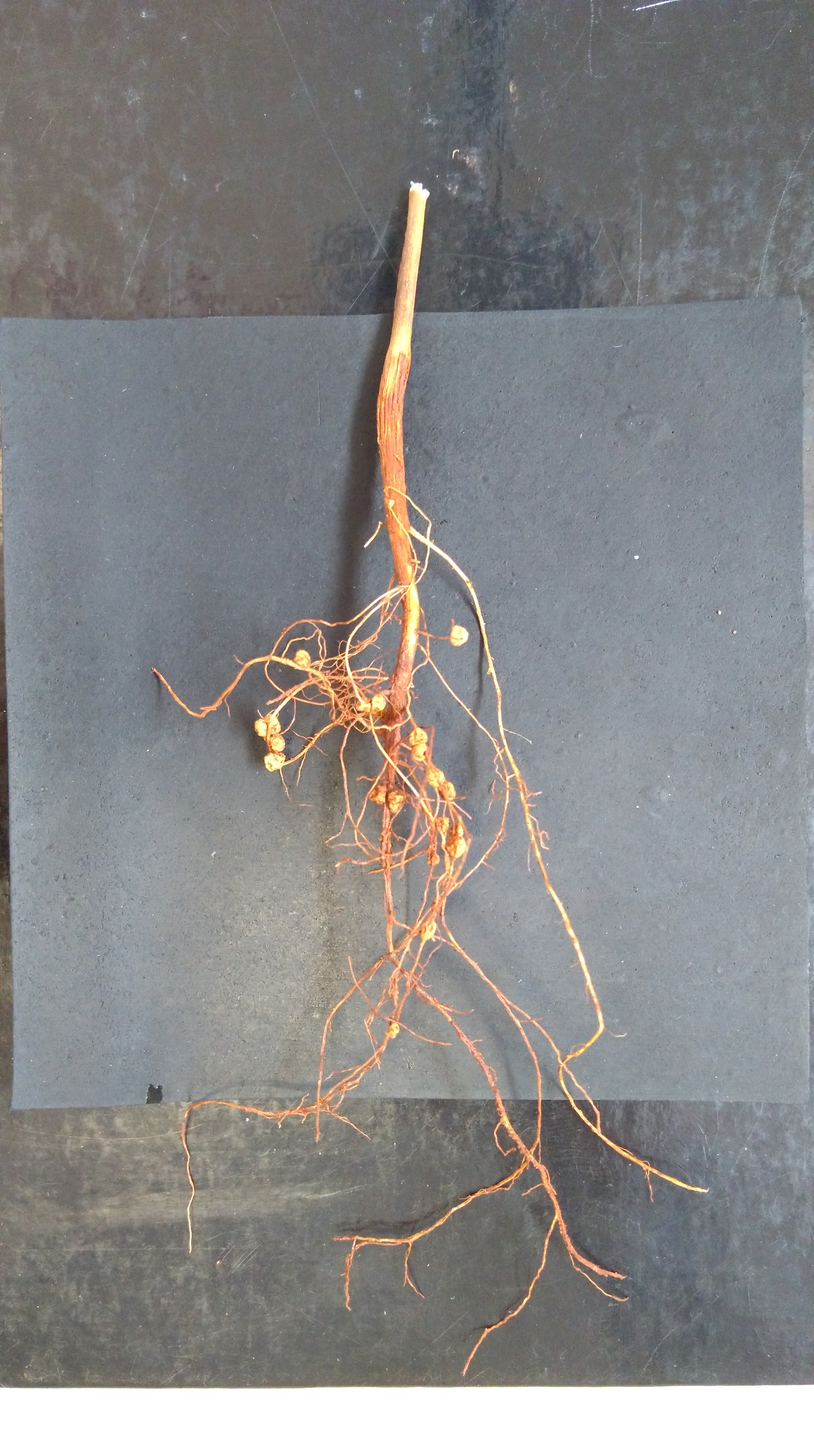nodule: (444, 835, 468, 860), (262, 750, 287, 773), (449, 623, 470, 648), (292, 648, 314, 671), (406, 726, 429, 747), (436, 781, 457, 804), (367, 782, 387, 806), (387, 790, 406, 815), (409, 742, 430, 763), (262, 713, 282, 735), (419, 920, 438, 942), (426, 768, 445, 789), (268, 732, 287, 753), (370, 693, 387, 713), (354, 697, 374, 714), (253, 717, 268, 738), (435, 815, 451, 833), (385, 1021, 400, 1040), (426, 851, 441, 867), (453, 823, 464, 838)
